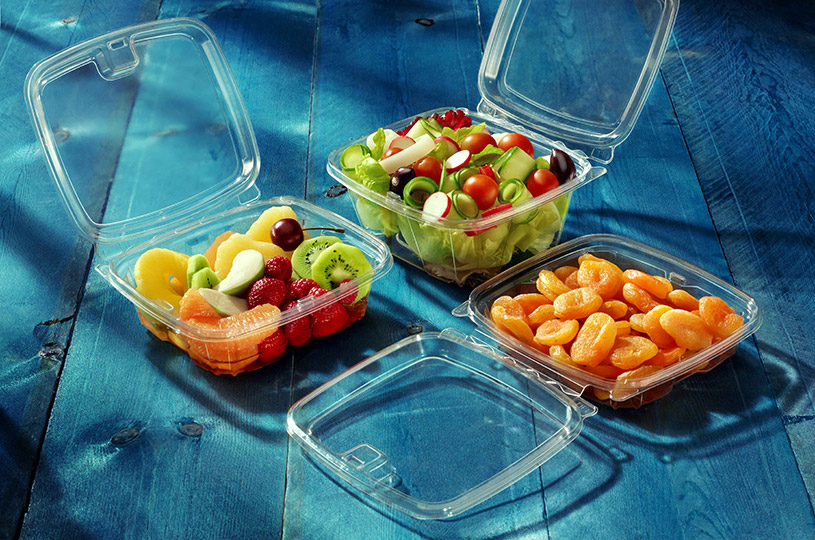PlasticBox: (18, 15, 394, 383)
